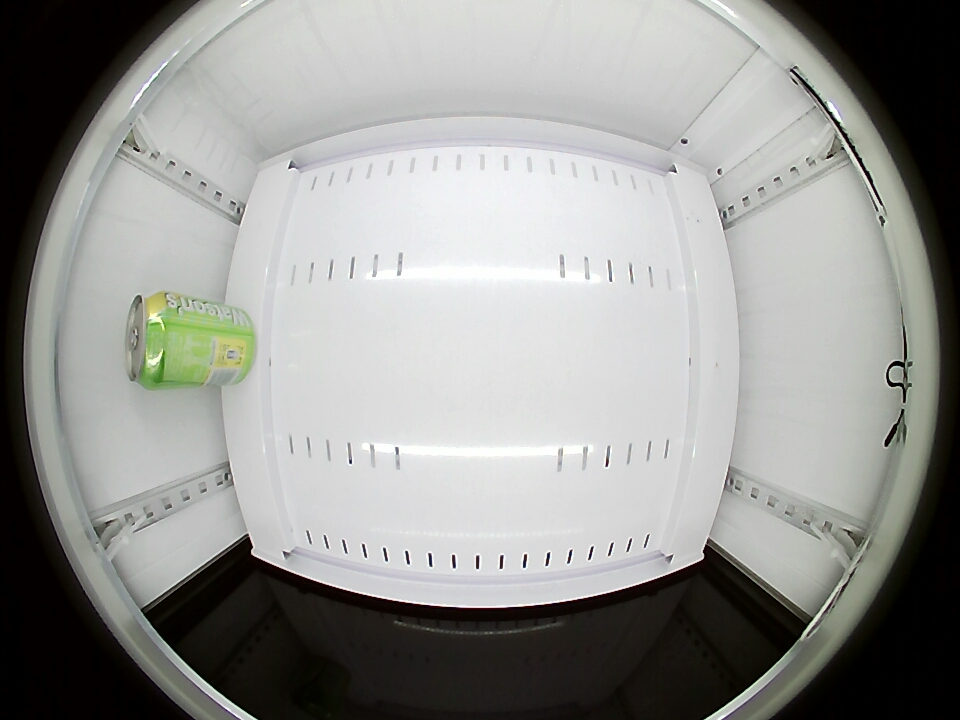quchenshixiangcao: (126, 292, 179, 388)
